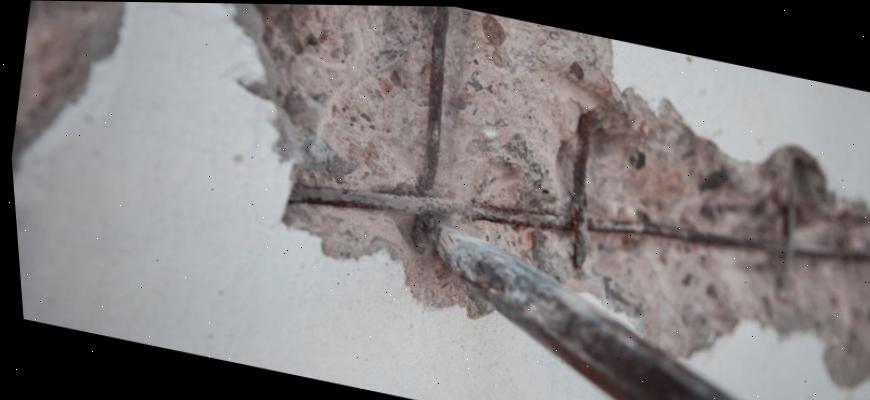exposed_rebar: (289, 111, 870, 276), (417, 6, 449, 193)
spalling: (232, 3, 870, 388), (12, 0, 126, 171)
